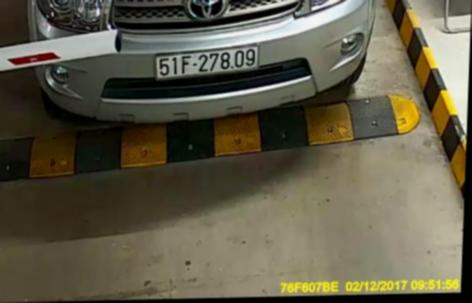License_Plate: (153, 41, 262, 78)
